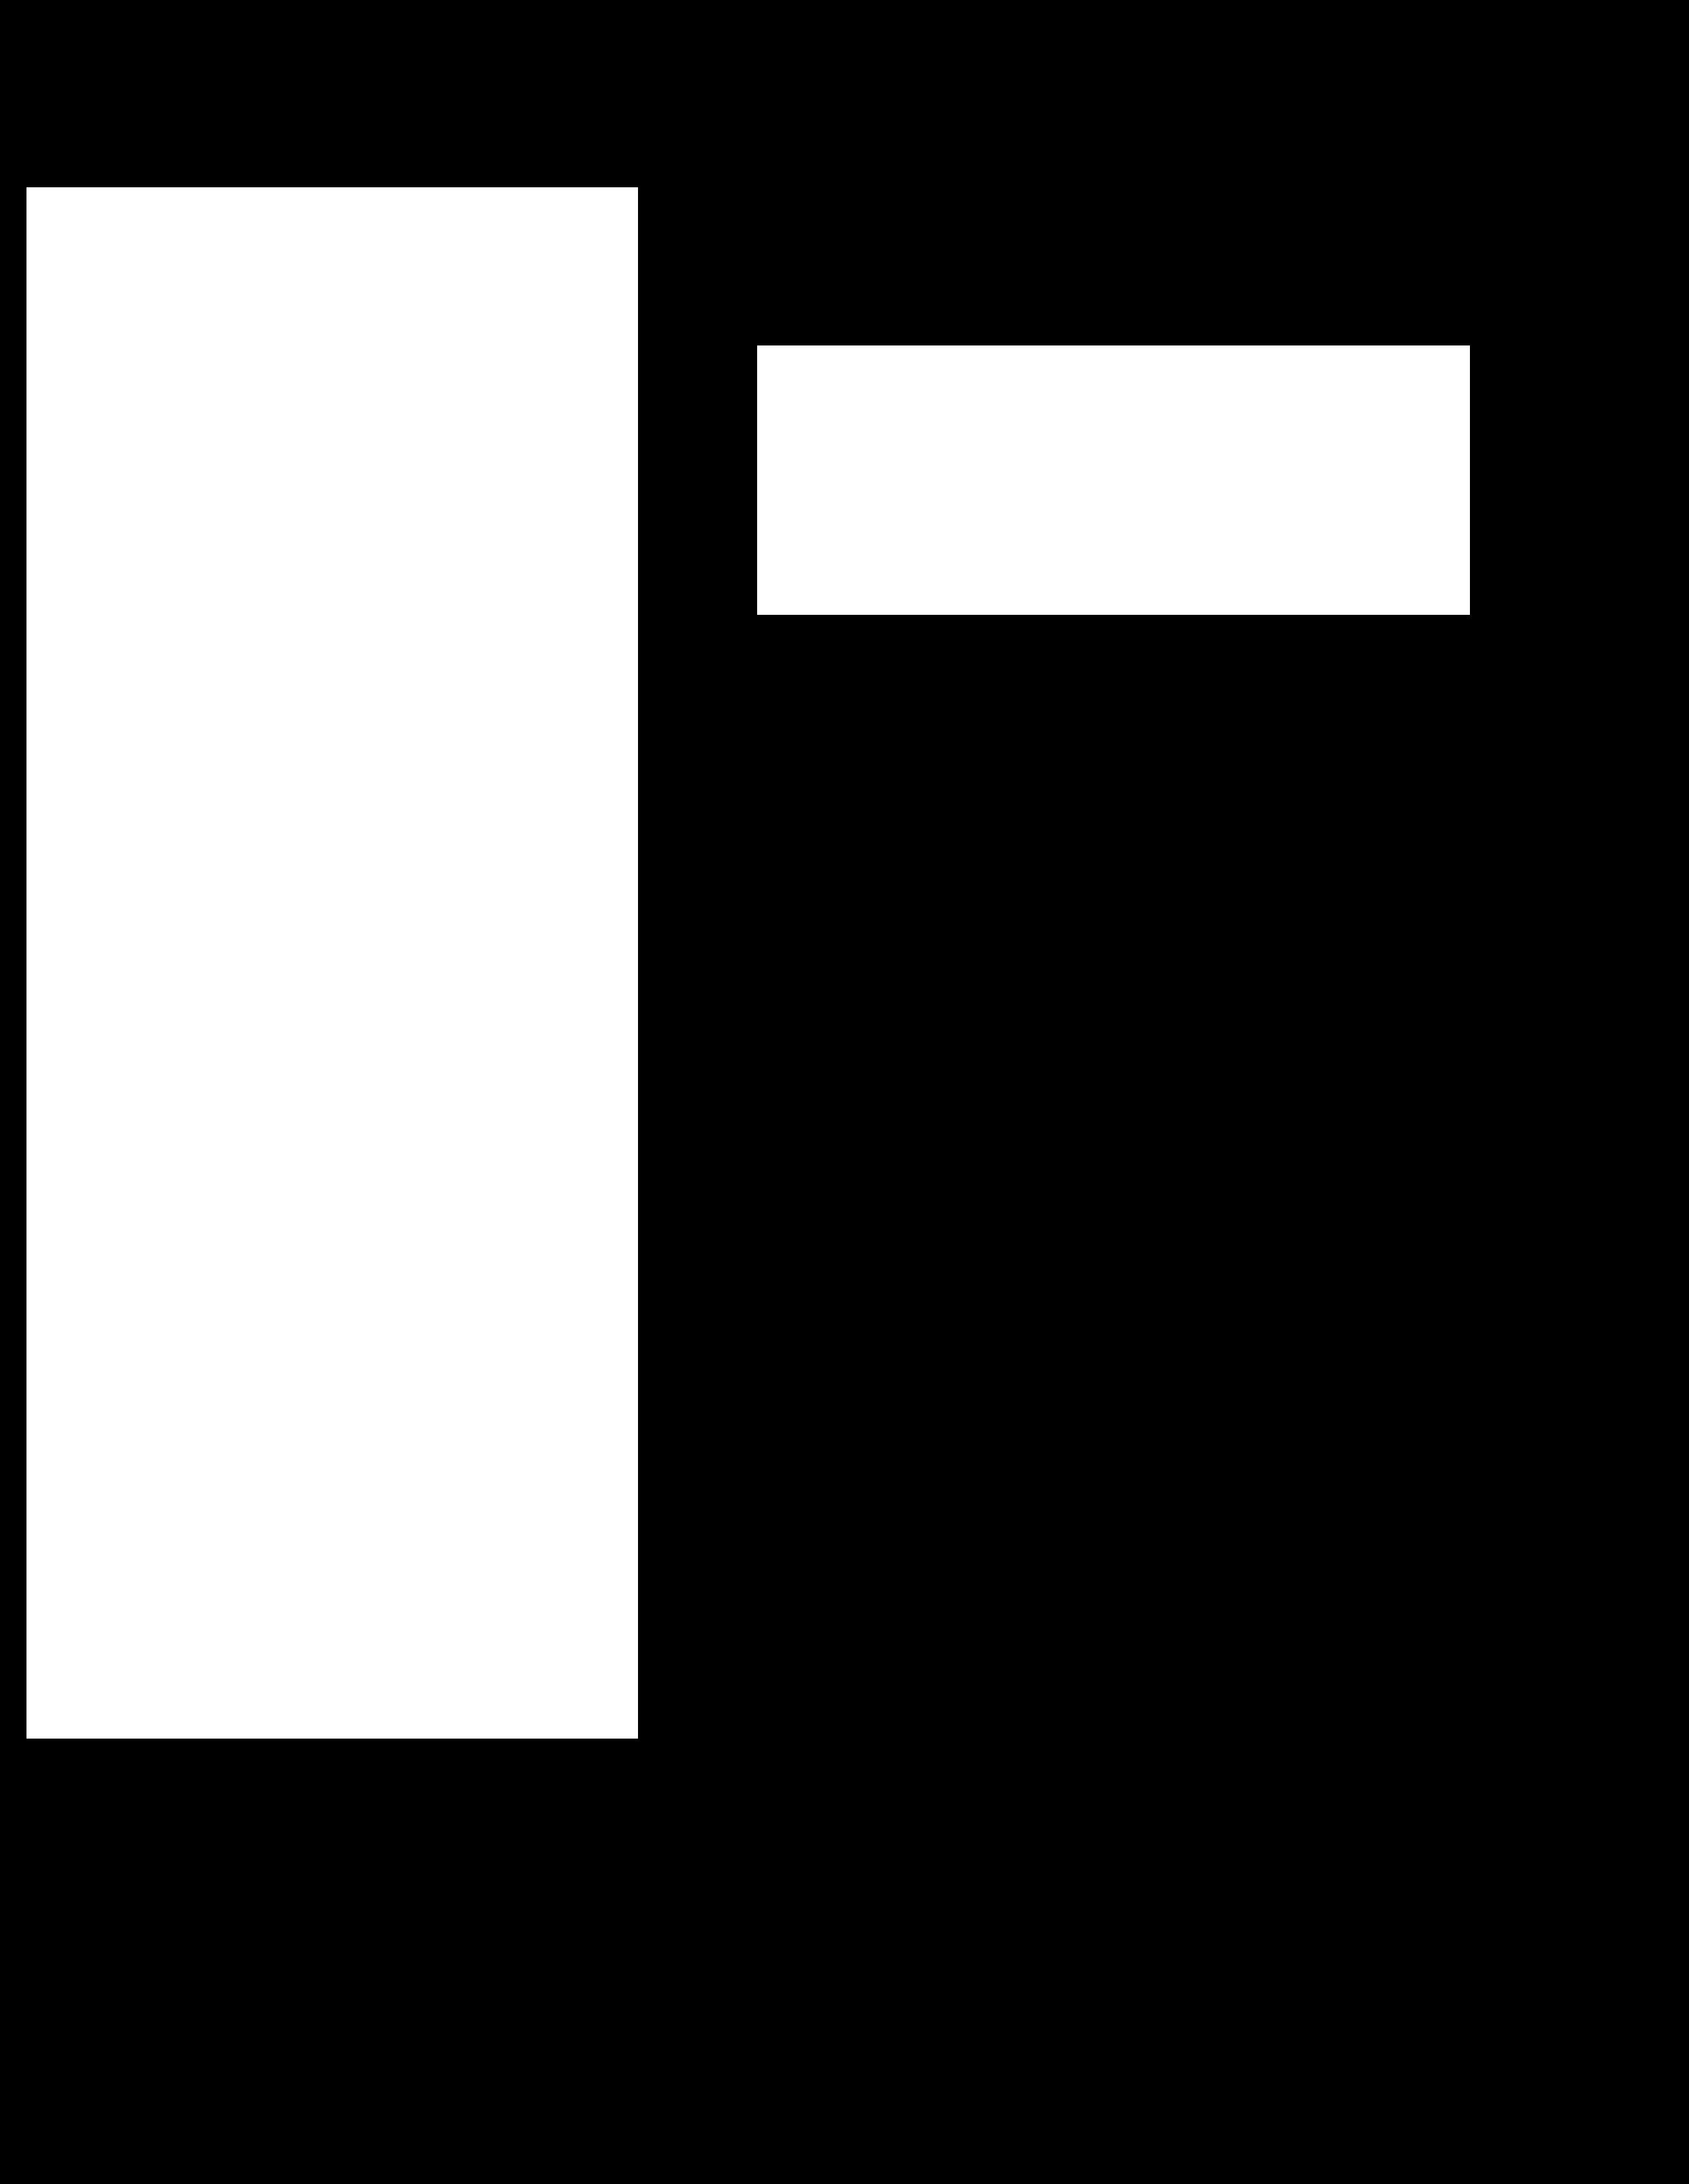table: (27, 188, 638, 1737), (757, 346, 1469, 613)
